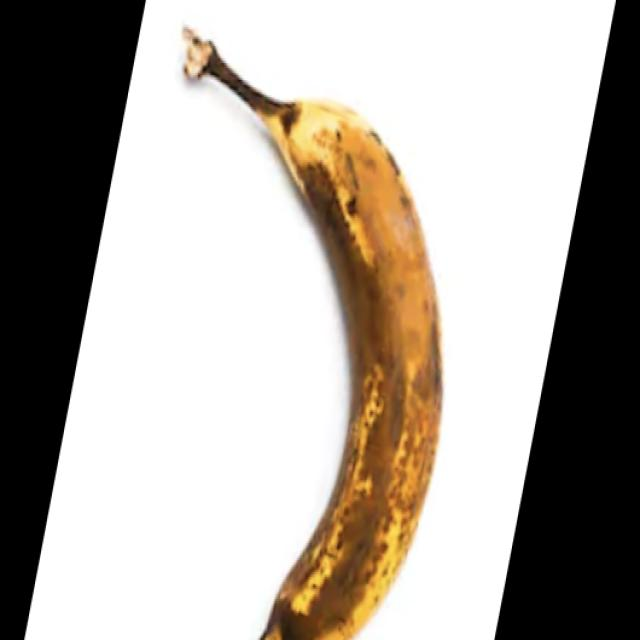overripe: (212, 68, 445, 640)
